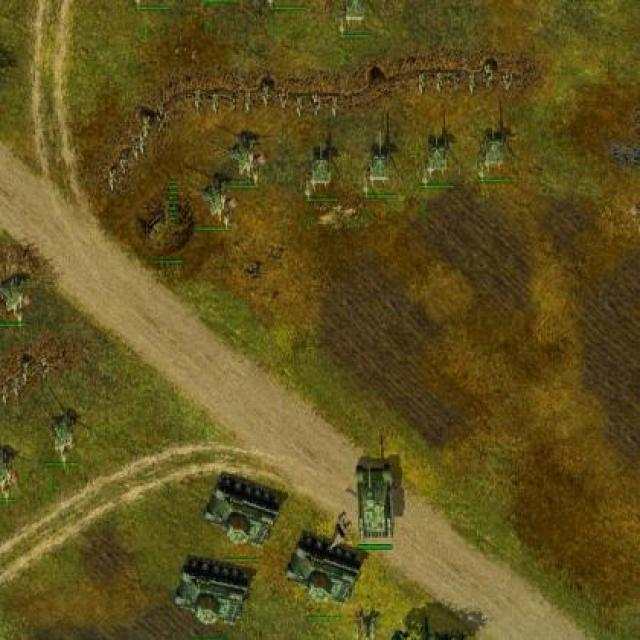tank: (285, 531, 361, 606), (203, 472, 280, 546), (174, 554, 248, 624), (355, 462, 396, 539)
